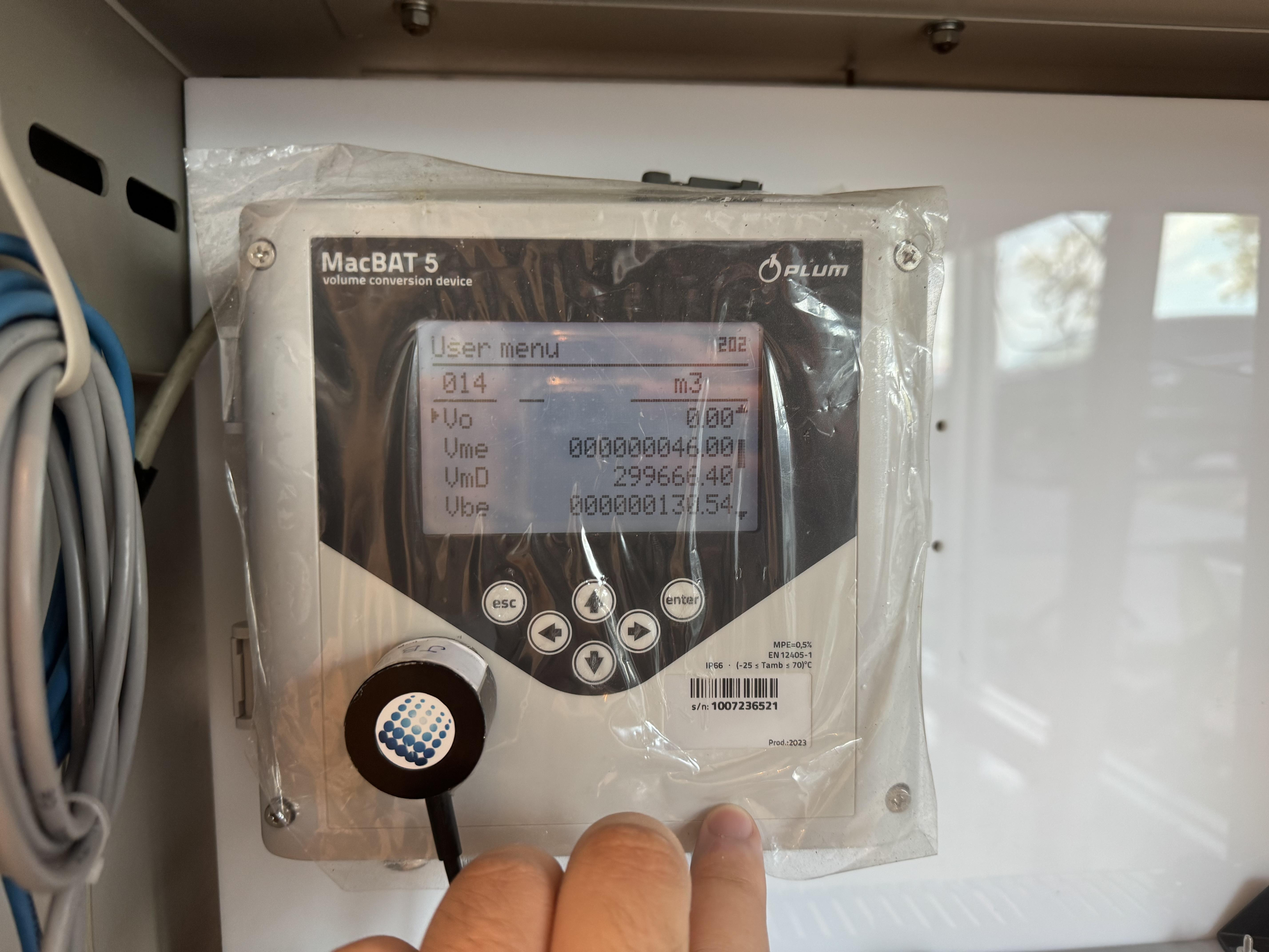digital_screen: (417, 321, 760, 535)
